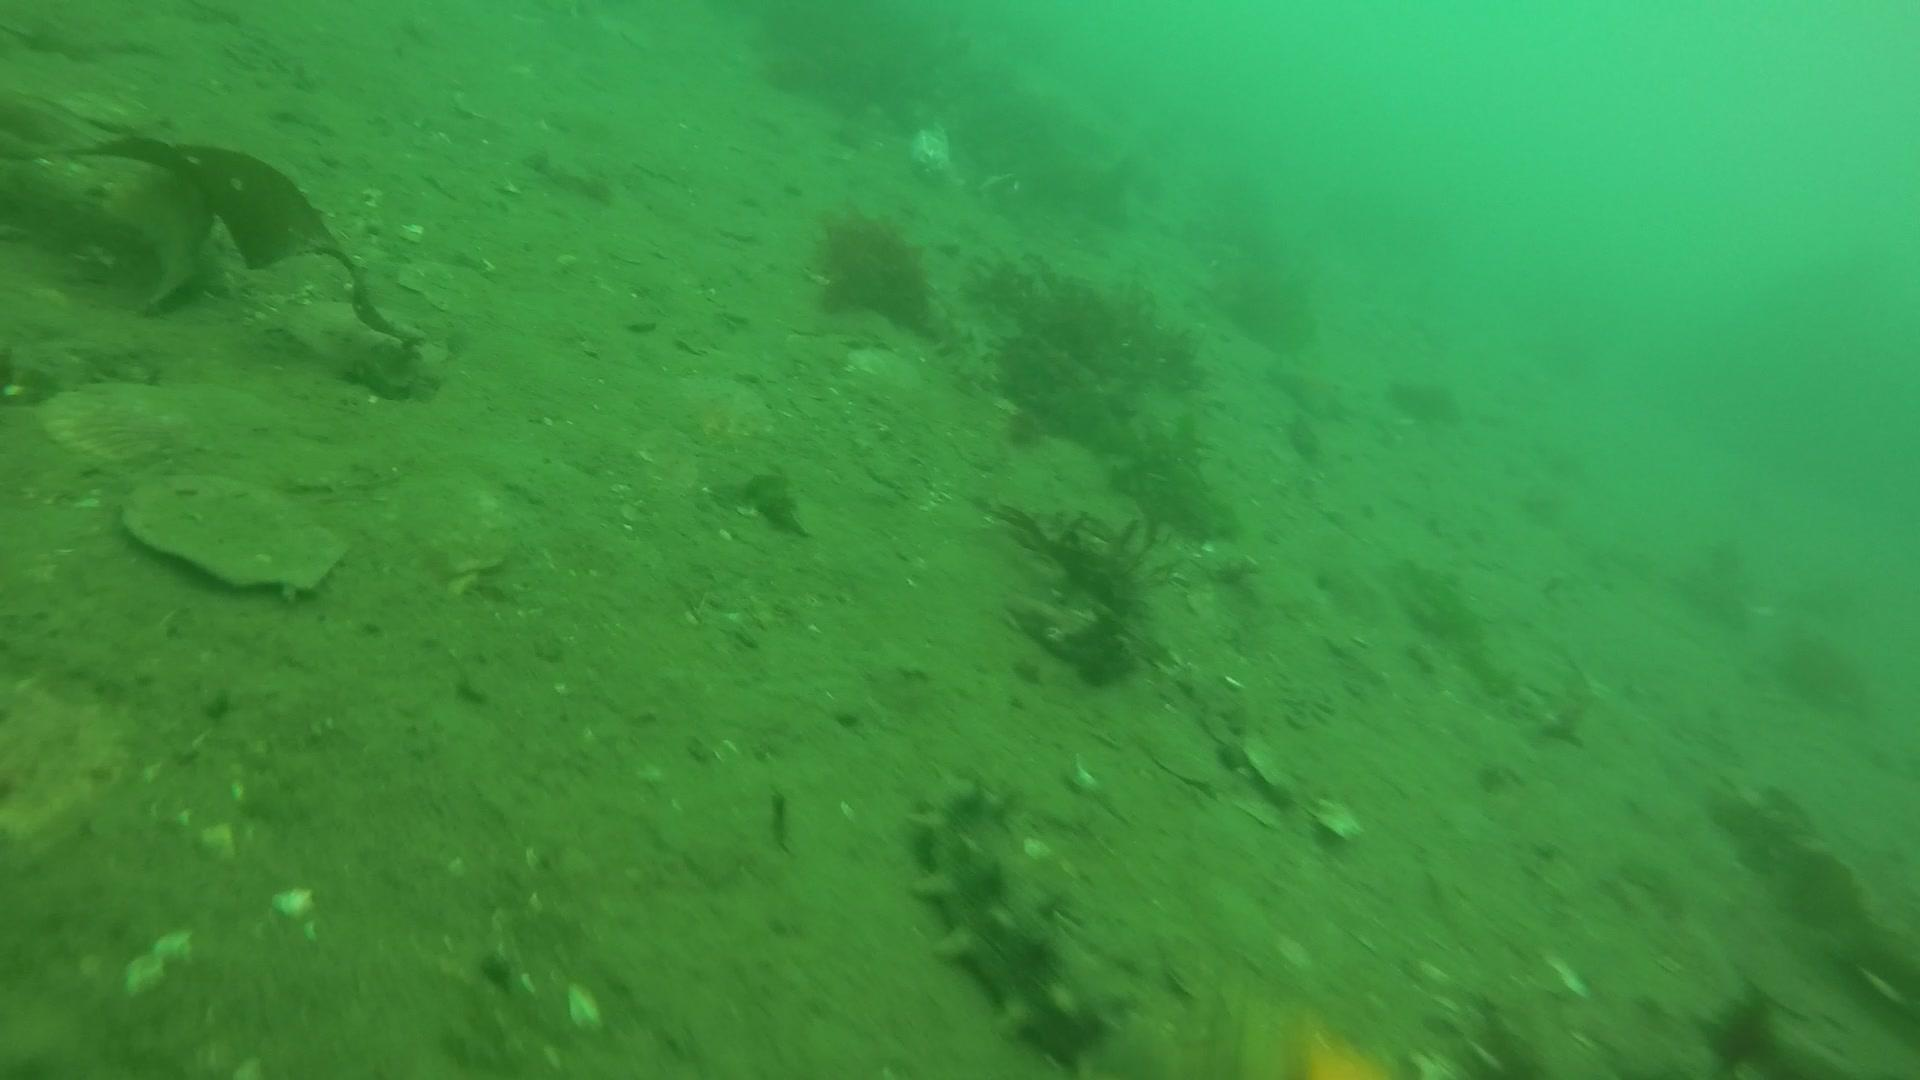holothurian: (906, 758, 1116, 1071)
